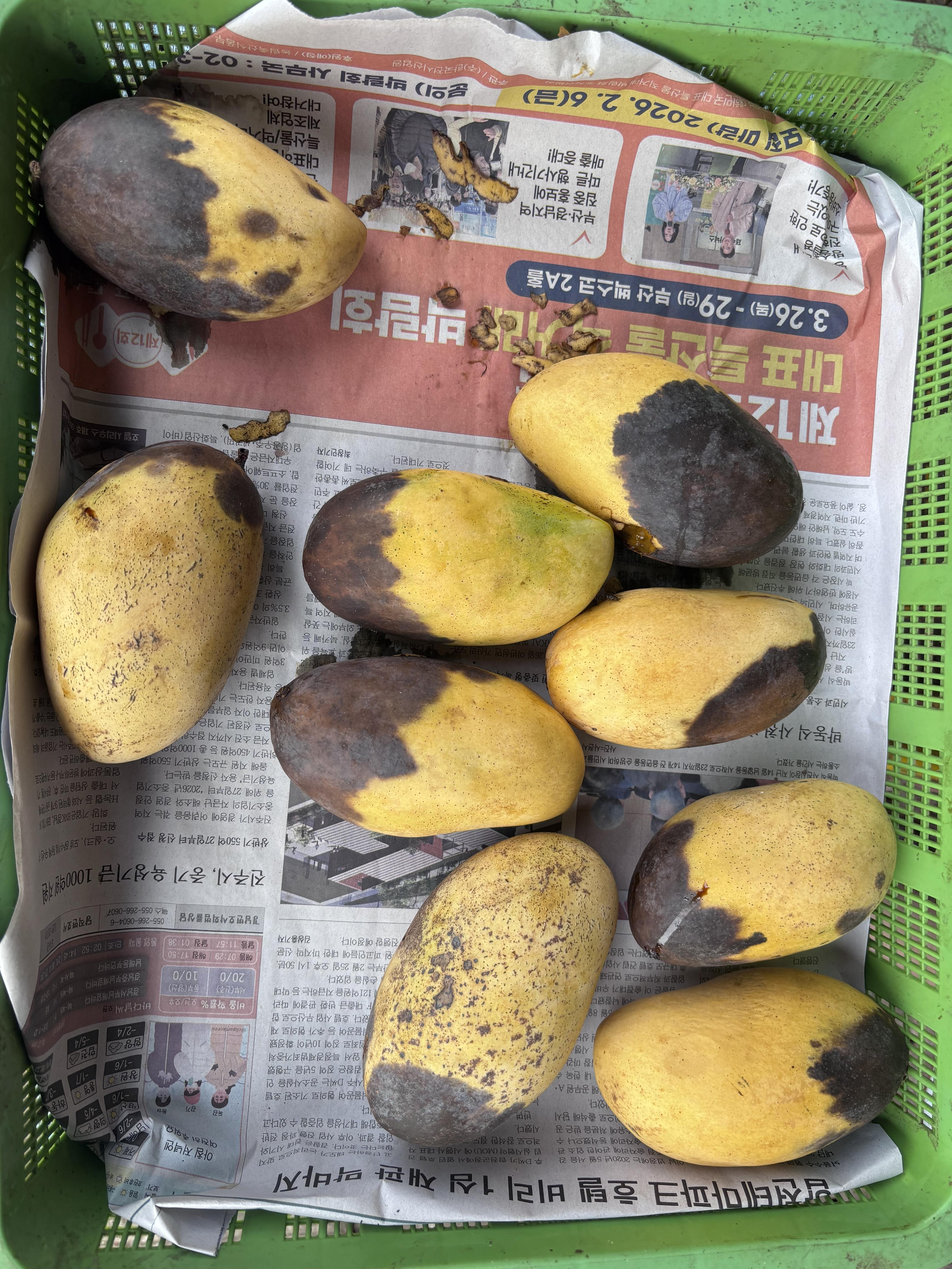mango: (31, 98, 365, 321), (36, 443, 262, 763), (594, 968, 909, 1167), (509, 353, 803, 566), (269, 657, 584, 836), (301, 469, 613, 644), (628, 780, 896, 966)
